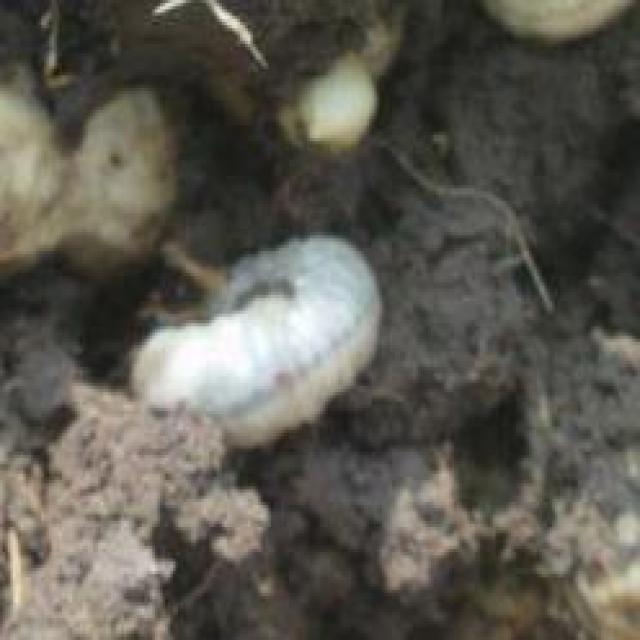Grub-Adult-: (119, 228, 397, 449)
